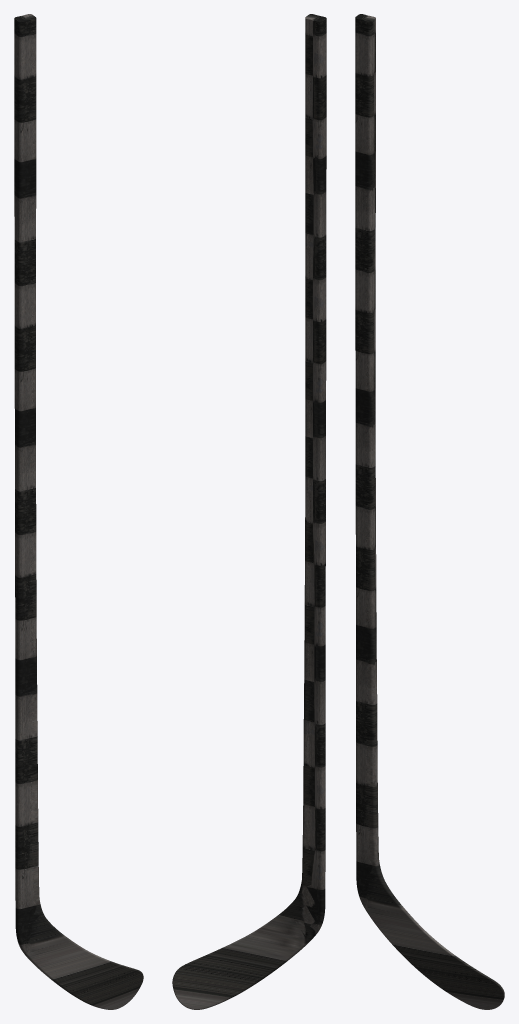
Rendered from P11-SBT.glb.
3 views of the same model, side by side, from view 1: azimuth 30°, elevation 25°; view 2: azimuth 150°, elevation 25°; view 3: azimuth 330°, elevation 25° (orthographic). The views are drawn at different scales.
Visible parts, largest first — view 1: geometry_0; view 2: geometry_0; view 3: geometry_0.
Part boxes in pixels (bbox=[...]): geometry_0: bbox=[14, 14, 143, 1009]; geometry_0: bbox=[172, 14, 326, 1009]; geometry_0: bbox=[355, 14, 504, 1009].
Bounding box in the file's own units: 237 × 1650 × 59.97.
Materials: 1 (1 with a texture image).
